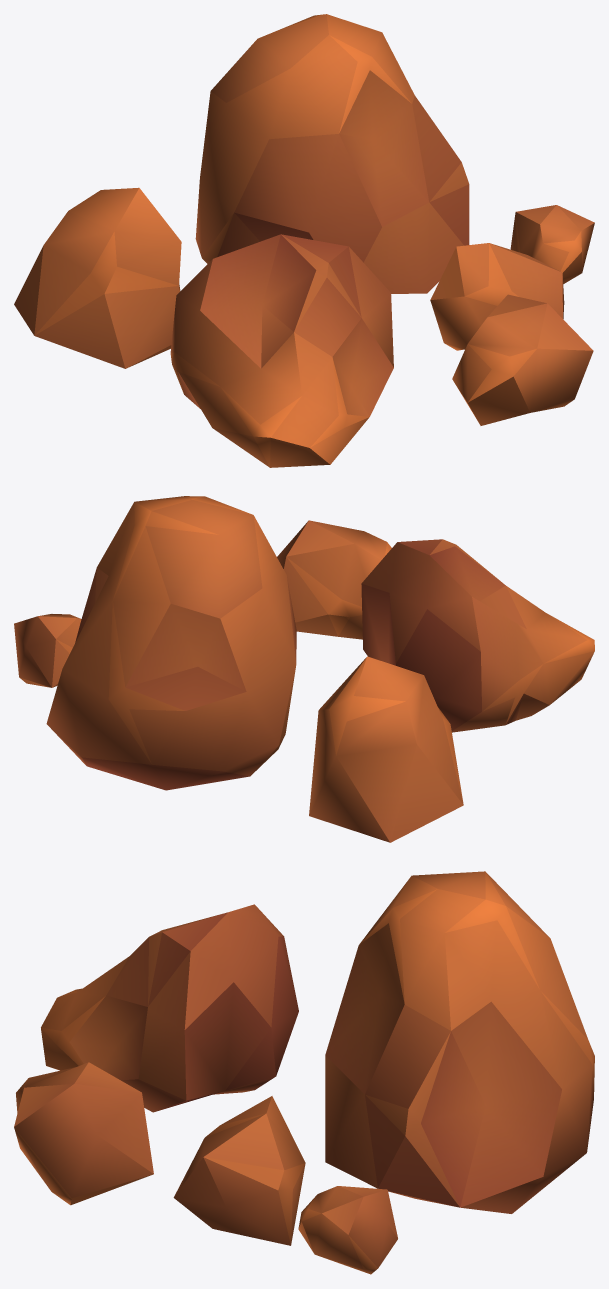
Rendered from copper-nuggets.glb.
The picture shows the model from 3 angles, top to bottom: view 1: azimuth 30°, elevation 25°; view 2: azimuth 150°, elevation 25°; view 3: azimuth 270°, elevation 25°; orthographic projection. The views are drawn at different scales.
Visible parts, largest first — view 1: Copper_Nuggets; view 2: Copper_Nuggets; view 3: Copper_Nuggets.
Part boxes in pixels (x1,y1,x2,y2): Copper_Nuggets: [14, 14, 594, 467]; Copper_Nuggets: [14, 496, 594, 842]; Copper_Nuggets: [14, 871, 594, 1274].
Bounding box in the file's own units: 0.9288 × 0.4749 × 0.8501.
1 material, 1 textured.
